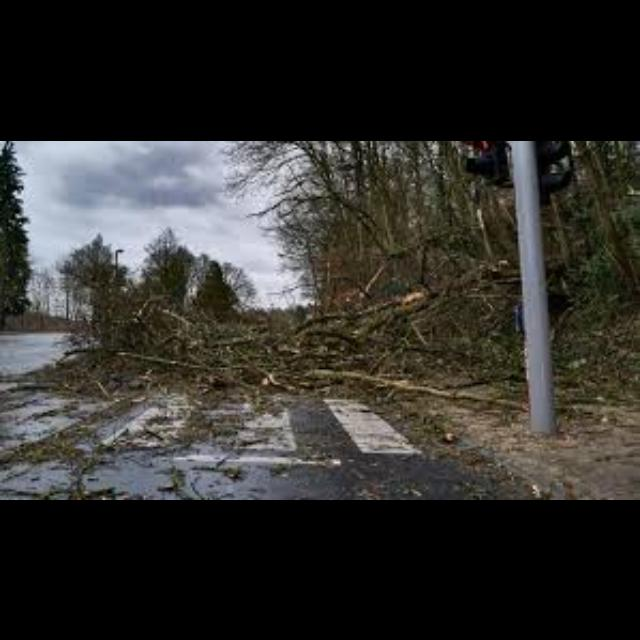Fallen Tree: (284, 254, 526, 340)
